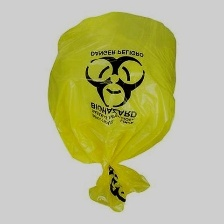plastic_bag: (40, 5, 188, 212)
